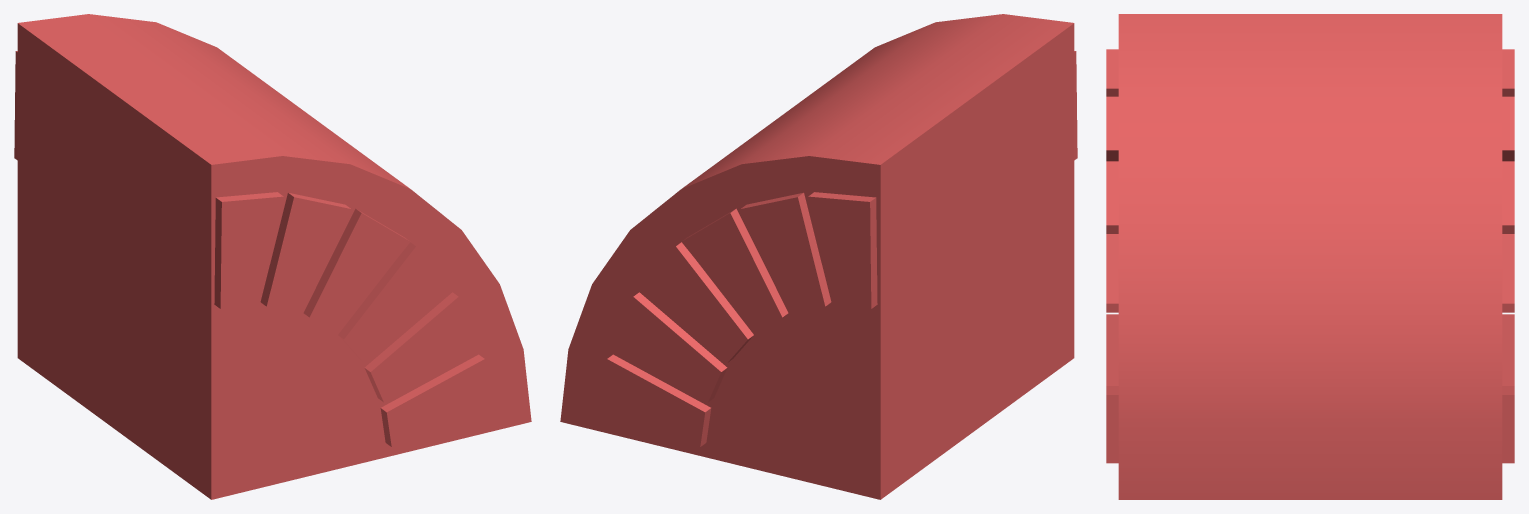
File: Curve1Color.fbx
3 views of the same model, side by side, from view 1: azimuth 30°, elevation 25°; view 2: azimuth 150°, elevation 25°; view 3: azimuth 270°, elevation 25° (orthographic).
Parts seen in each view (by area): view 1: polySurface483; view 2: polySurface483; view 3: polySurface483.
Boxes of the visible parts, x1,y1,x2,y2 form: polySurface483: (14, 14, 531, 499); polySurface483: (560, 14, 1077, 499); polySurface483: (1106, 14, 1514, 499).
Bounding box in the file's own units: 0.9141 × 0.9141 × 1.02.
